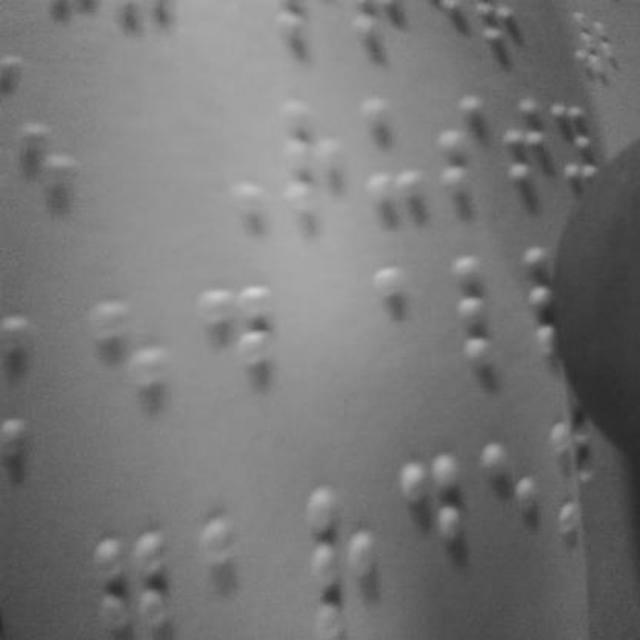braiile: (297, 474, 381, 640), (393, 447, 473, 607), (82, 293, 166, 443), (199, 272, 277, 428), (478, 436, 548, 594), (450, 254, 526, 382), (197, 502, 267, 640), (370, 255, 438, 385), (357, 93, 427, 217), (278, 98, 344, 225), (436, 82, 496, 208)
